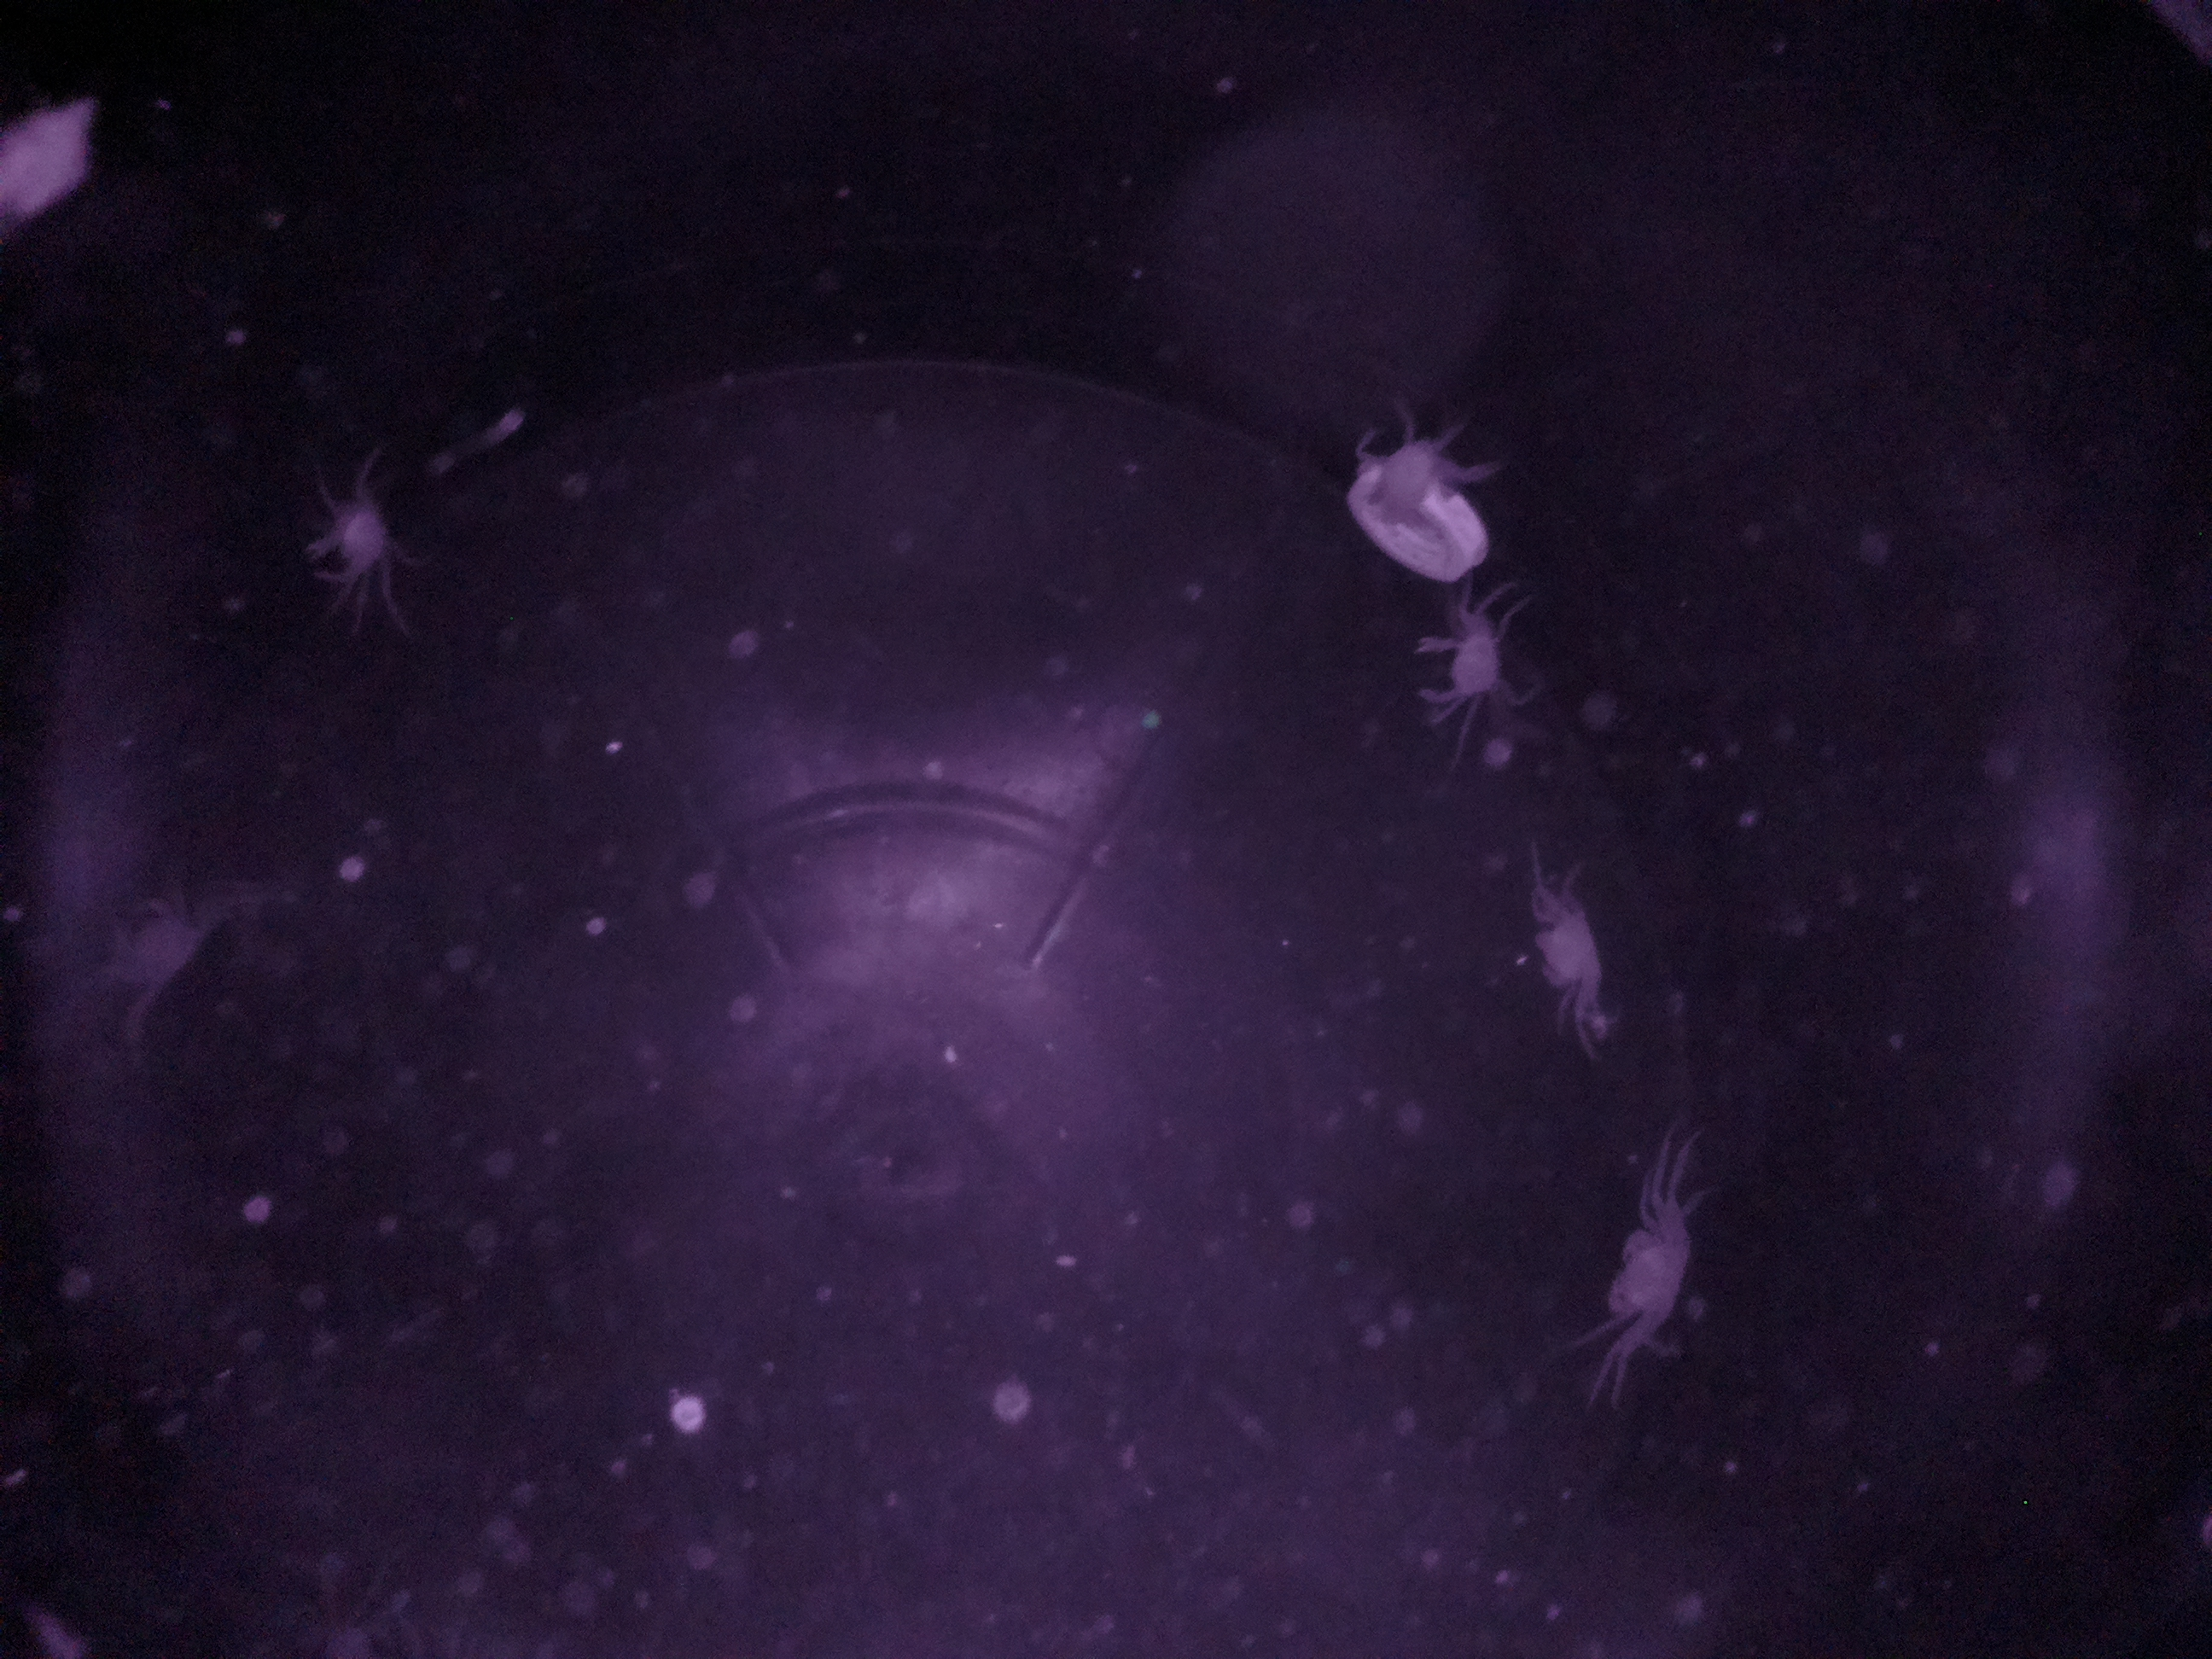Crab: (1386, 606, 1557, 727), (1581, 1197, 1710, 1354)
